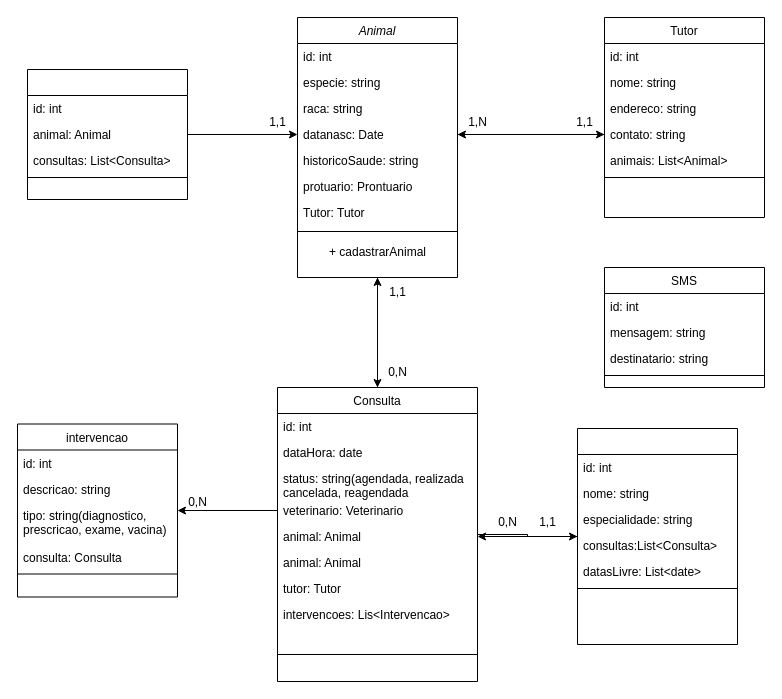
Some shapes in this 782 by 699 pixel diagram are drawn without their labels. The box of each missing label's shape, as (x1, y1, x2, y2) in pixels:
Prontuario: (26, 68, 188, 200)
Veterinario: (576, 428, 738, 644)
